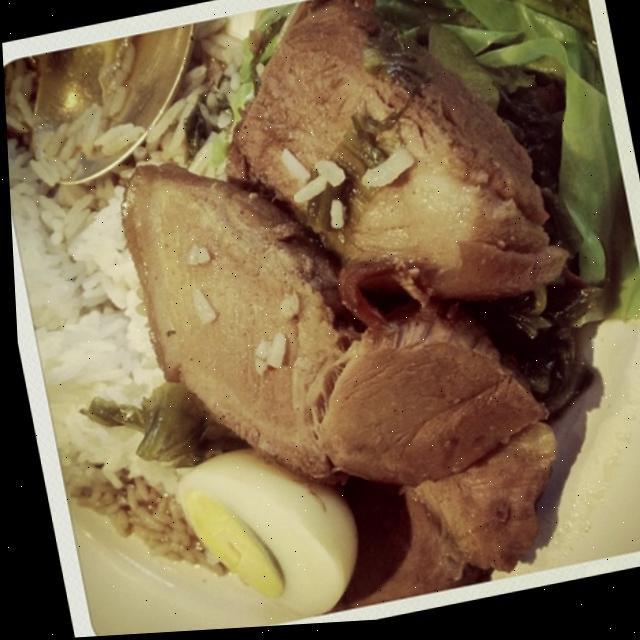猪肉菜式: (20, 0, 631, 633)
